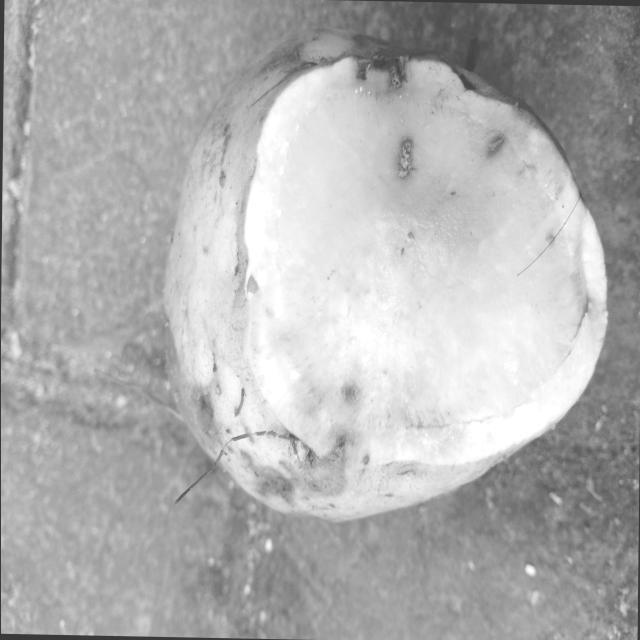Sick Sweet Potato_Tuber Rot: (244, 58, 605, 465)
